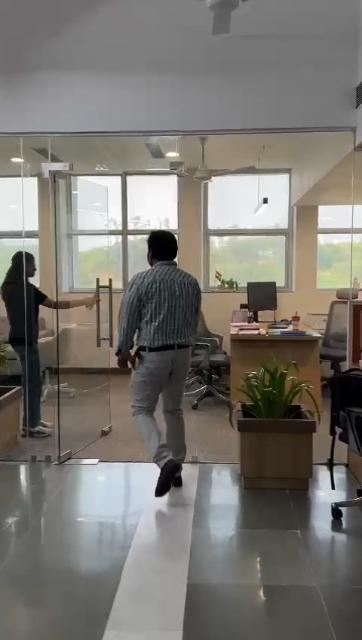floor: (0, 418, 362, 640)
moving-obj: (83, 237, 235, 481), (0, 228, 88, 452)
object: (232, 364, 320, 496), (319, 285, 362, 527), (192, 314, 227, 406), (244, 278, 280, 318)
wall: (38, 177, 68, 289), (296, 175, 318, 313), (179, 176, 203, 264)
